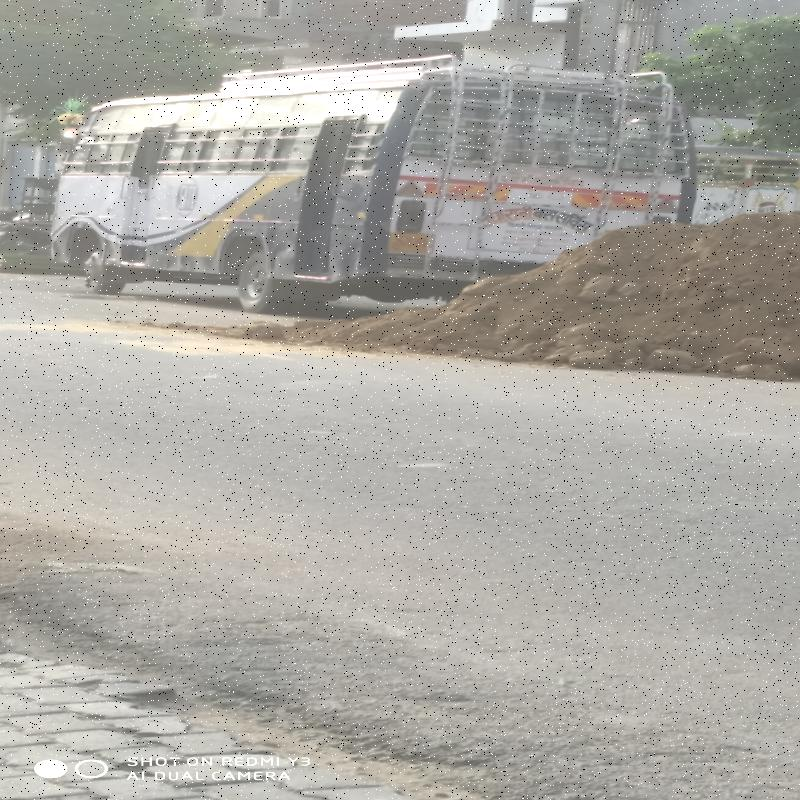bus: (82, 64, 676, 294)
